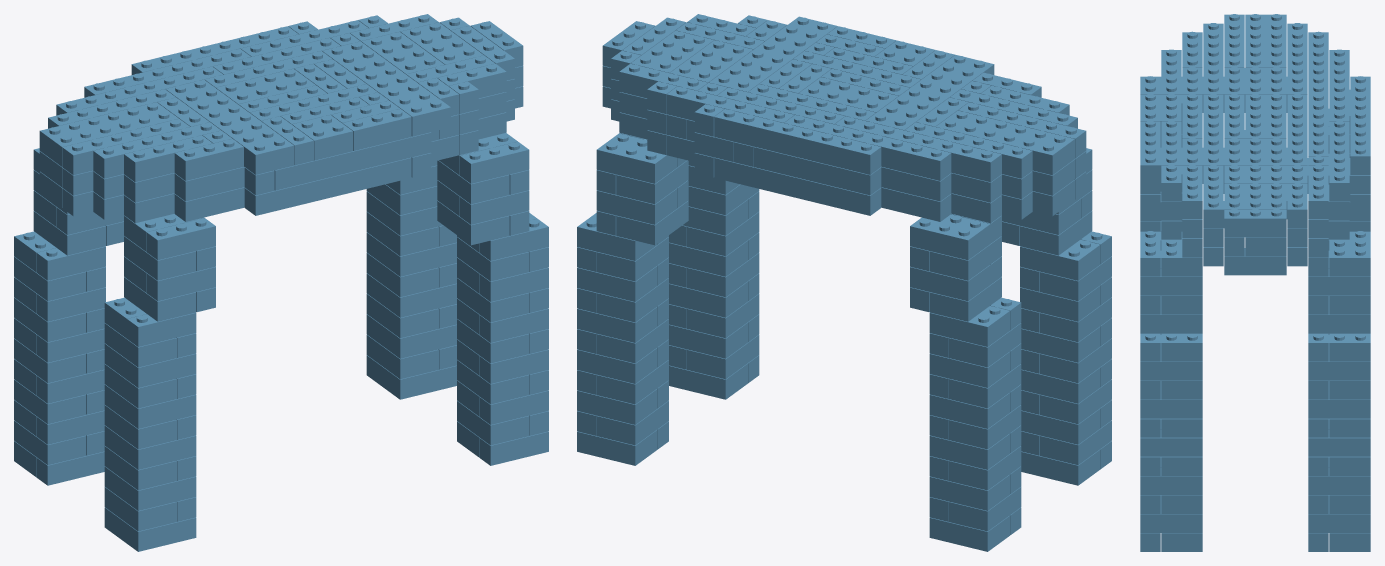
File: collab_table-L3V1_raw.glb
The picture shows the model from 3 angles, left to right: view 1: azimuth 30°, elevation 25°; view 2: azimuth 150°, elevation 25°; view 3: azimuth 270°, elevation 25°; orthographic projection. The views are drawn at different scales.
Bounding box in the file's own units: 22.98 × 18.13 × 10.98.
